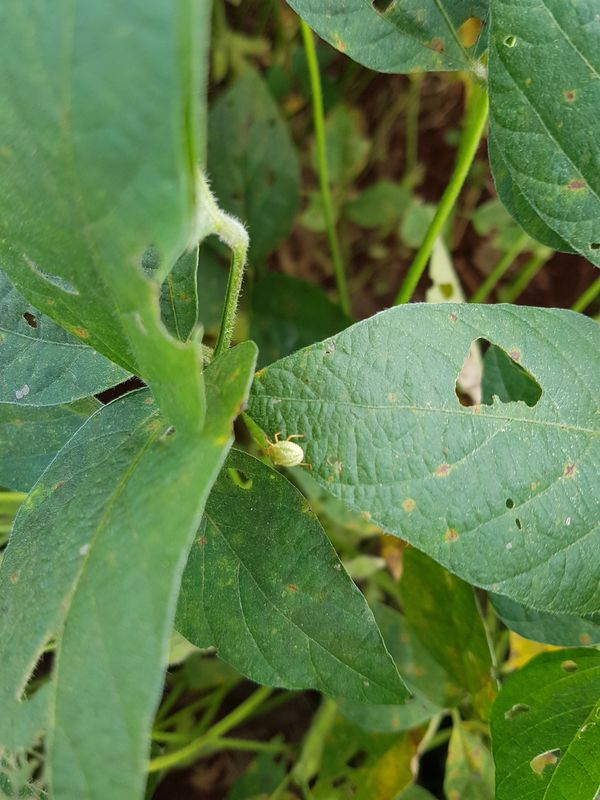Euschistus_heros_ninfa: (251, 427, 316, 480)
